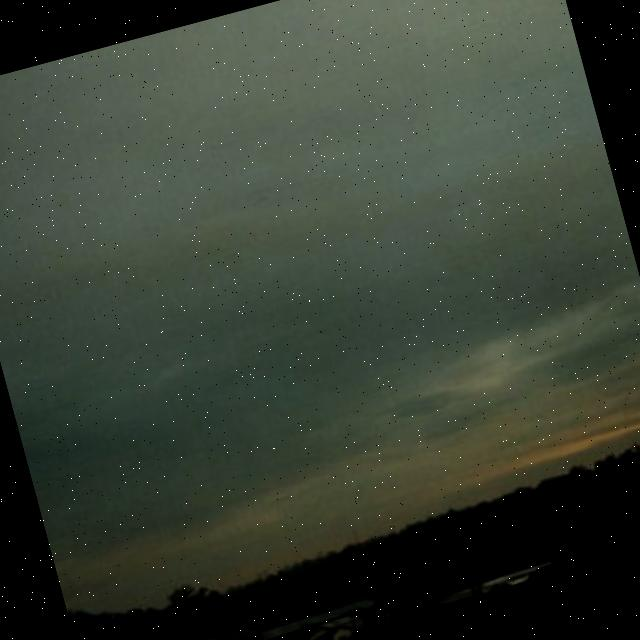Ns: (1, 56, 640, 584)
